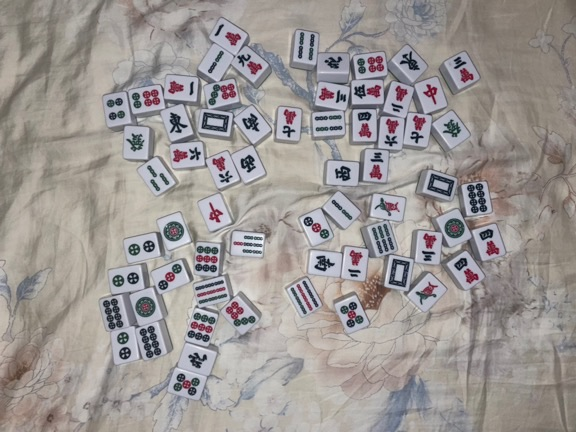b-1: (414, 281, 439, 307), (374, 196, 401, 218)
b-2: (331, 198, 354, 223), (207, 51, 224, 74)
b-3: (145, 164, 169, 191)
b-4: (295, 31, 315, 61), (314, 114, 343, 133)
b-6: (371, 223, 396, 254)
b-7: (232, 234, 263, 256)
b-9: (289, 280, 319, 315), (194, 279, 227, 307)
c-1: (214, 23, 242, 46), (167, 78, 195, 99)
c-2: (346, 249, 365, 279), (389, 85, 406, 114)
c-3: (452, 56, 475, 83), (318, 86, 347, 106), (420, 232, 438, 263), (367, 151, 385, 181)
c-4: (453, 257, 480, 285), (478, 228, 501, 257), (357, 111, 373, 139)
c-5: (353, 83, 381, 99)
c-6: (211, 156, 234, 184), (172, 147, 201, 164), (383, 118, 400, 146)
c-7: (409, 115, 427, 144), (281, 108, 298, 138)
c-9: (236, 53, 263, 76)
d-1: (442, 217, 466, 240), (161, 221, 185, 242), (135, 295, 155, 319)
d-2: (126, 239, 156, 256), (111, 271, 141, 287), (115, 332, 132, 360)
d-3: (302, 215, 330, 241), (157, 263, 182, 292)
d-4: (106, 97, 126, 121)
d-5: (339, 301, 365, 329), (172, 373, 200, 397)
d-6: (131, 88, 161, 109), (357, 56, 384, 75)
d-7: (225, 301, 255, 327), (207, 83, 237, 105)
d-8: (139, 325, 161, 360), (103, 298, 125, 329), (466, 183, 488, 214)
d-9: (187, 312, 216, 343), (195, 244, 219, 274)
honors-east: (167, 110, 190, 136), (398, 50, 422, 72)
honors-green: (441, 118, 463, 140), (126, 133, 146, 153)
honors-north: (188, 351, 209, 370), (323, 56, 344, 71)
honors-red: (207, 201, 224, 225), (423, 82, 439, 107)
honors-south: (312, 253, 336, 273), (242, 113, 262, 133)
honors-west: (239, 154, 258, 175), (333, 164, 352, 183)
honors-white: (426, 172, 455, 197), (388, 257, 411, 288), (199, 112, 230, 134)
